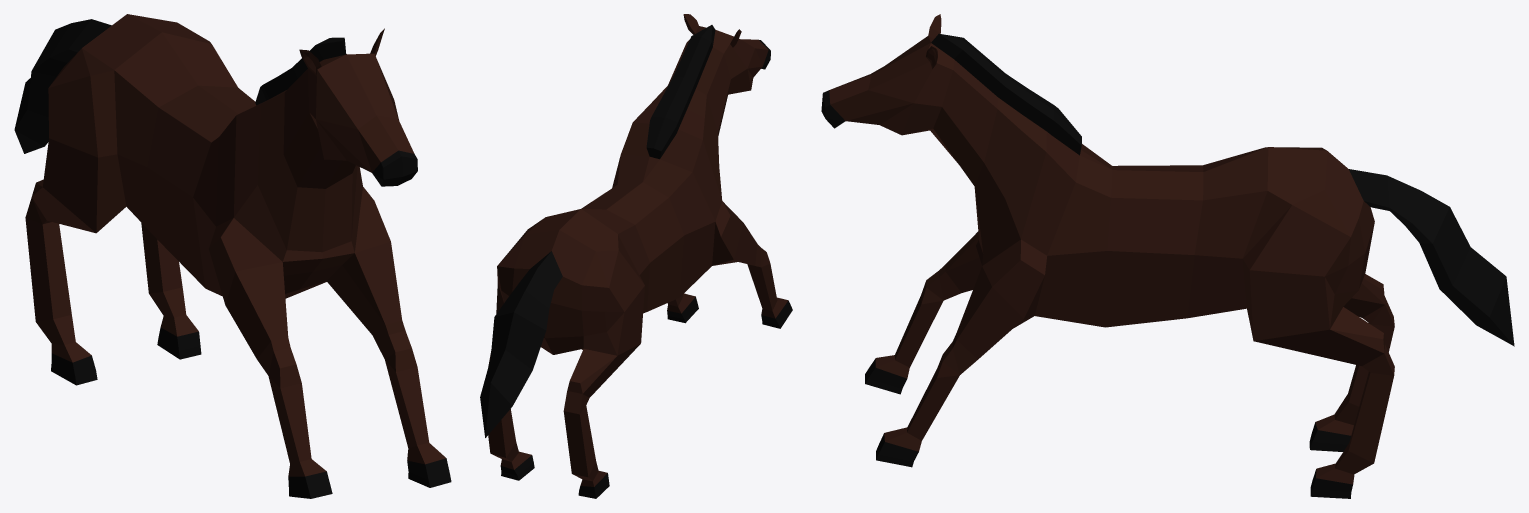
File: Horse_000009.obj
3 views of the same model, side by side, from view 1: azimuth 30°, elevation 25°; view 2: azimuth 150°, elevation 25°; view 3: azimuth 270°, elevation 25° (orthographic). The views are drawn at different scales.
Visible parts, largest first — view 1: Horse_Cylinder; view 2: Horse_Cylinder; view 3: Horse_Cylinder.
Part boxes in pixels (x1,y1,x2,y2): Horse_Cylinder: (14,14,451,498); Horse_Cylinder: (480,14,792,498); Horse_Cylinder: (821,14,1514,498).
Size of the model in its own units: 2.55 by 6.88 by 9.82.
